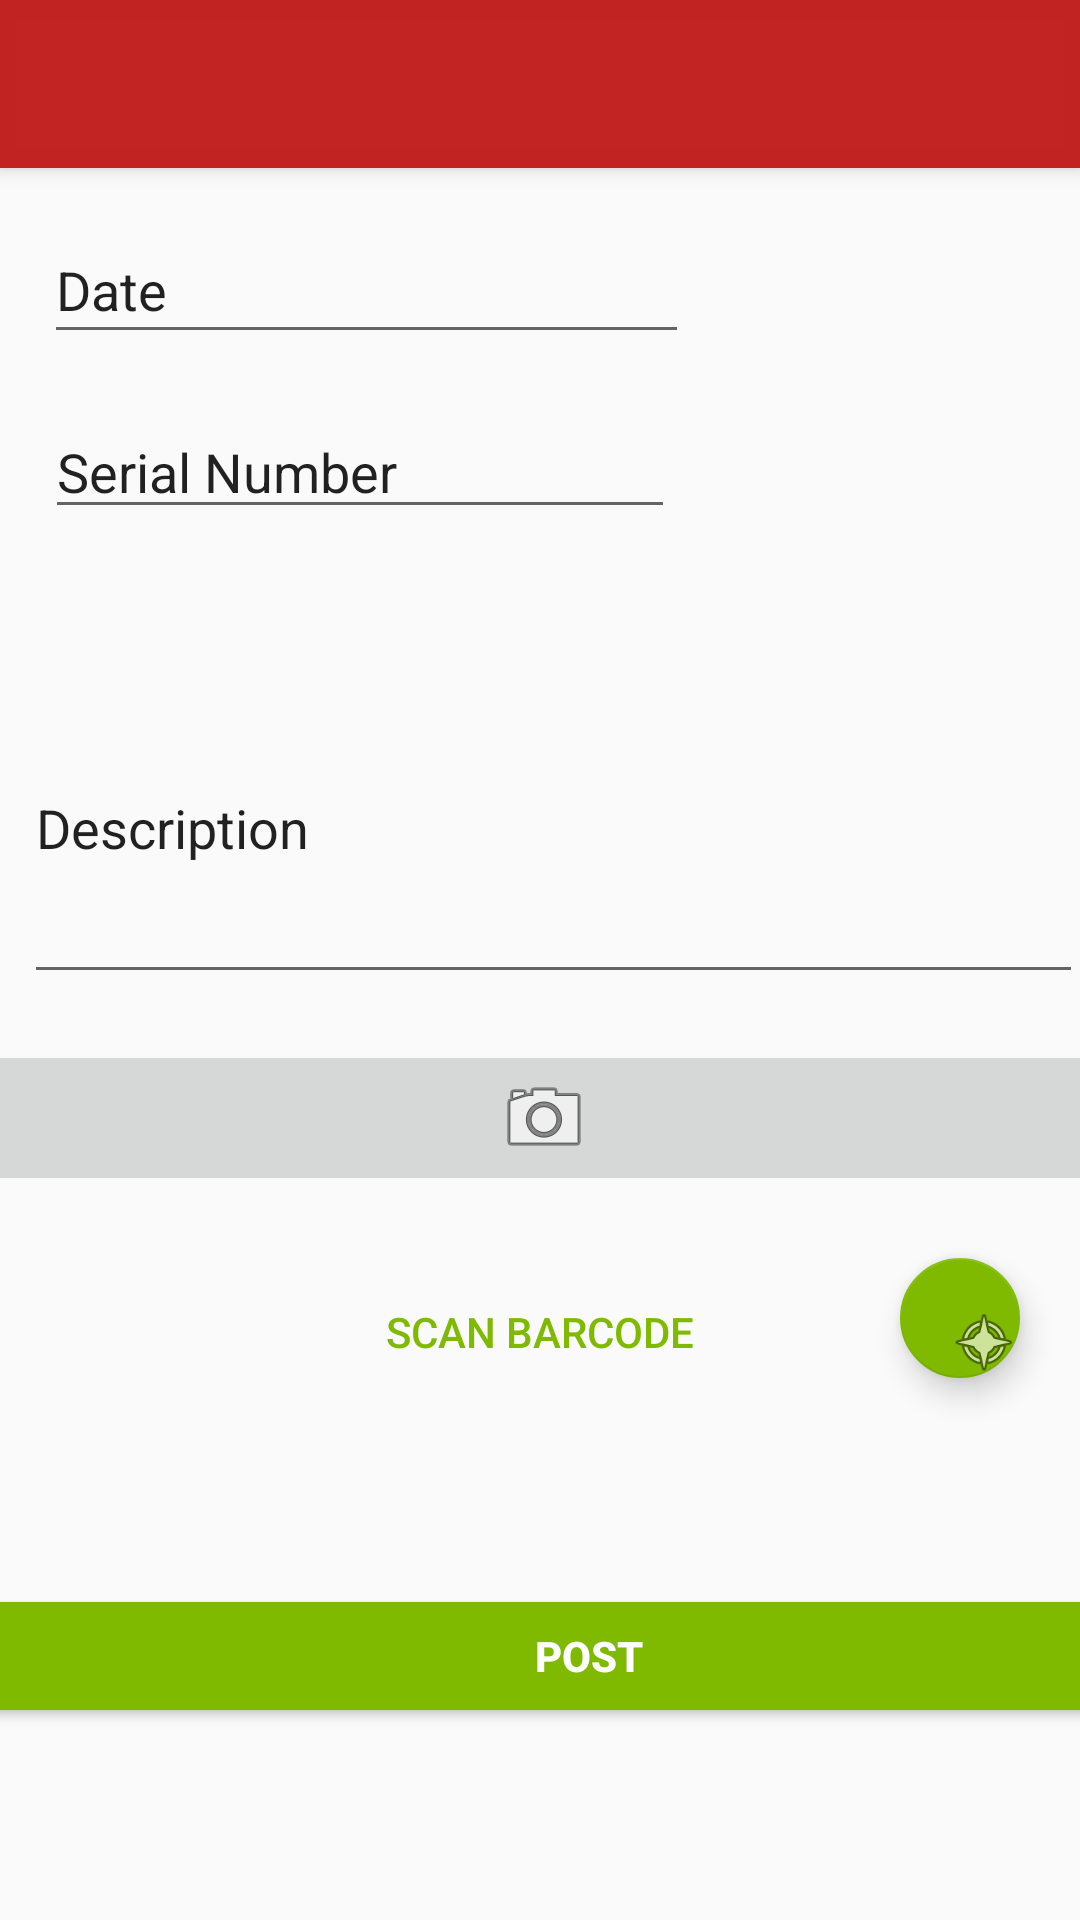

Named icons in this screenshot (1080px×1920px) and their bounding boxes, (x1, y1, x2, y2):
compass: (900, 1258, 1020, 1378)
